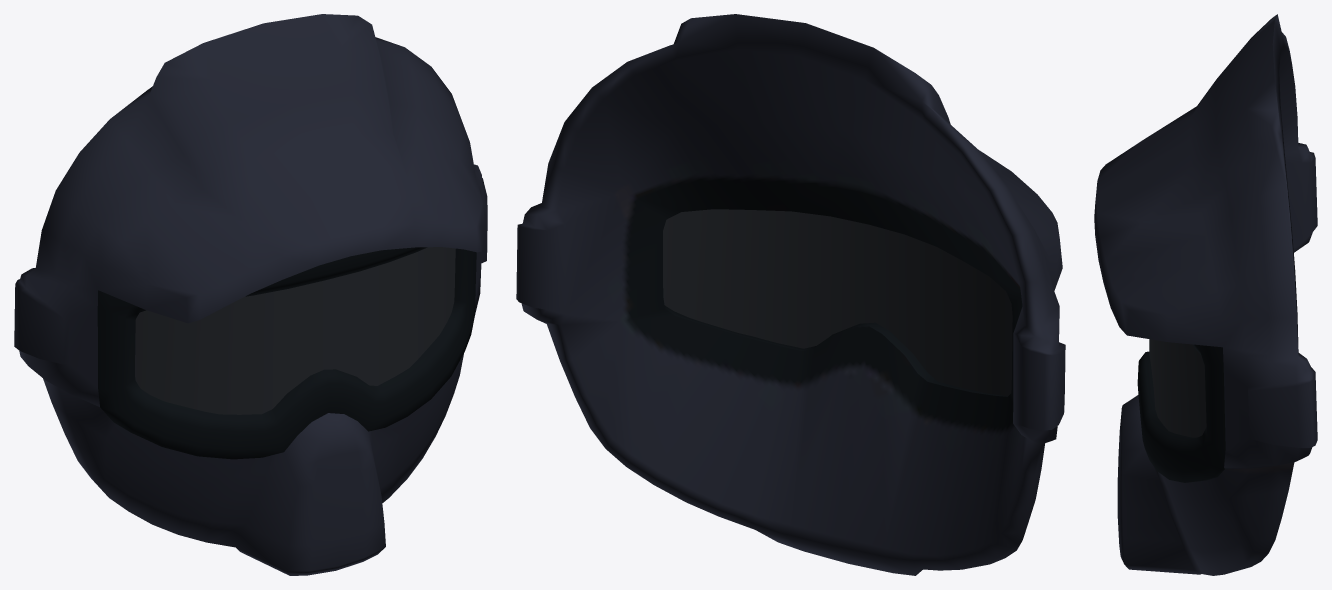
File: CapMaskPaint0.glb
3 views of the same model, side by side, from view 1: azimuth 30°, elevation 25°; view 2: azimuth 150°, elevation 25°; view 3: azimuth 270°, elevation 25° (orthographic). The views are drawn at different scales.
Visible parts, largest first — view 1: Body__mCap, Body_Alpha__mCapAlpha; view 2: Body__mCap, Body_Alpha__mCapAlpha; view 3: Body__mCap, Body_Alpha__mCapAlpha.
Part boxes in pixels (x1,y1,x2,y2): Body__mCap: (14,14,487,575); Body_Alpha__mCapAlpha: (135,247,455,414); Body__mCap: (516,14,1065,575); Body_Alpha__mCapAlpha: (663,209,1012,395); Body__mCap: (1094,14,1317,575); Body_Alpha__mCapAlpha: (1149,339,1206,437).
Bounding box in the file's own units: 7.07 × 7.23 × 2.89.
2 materials, 2 textured.
